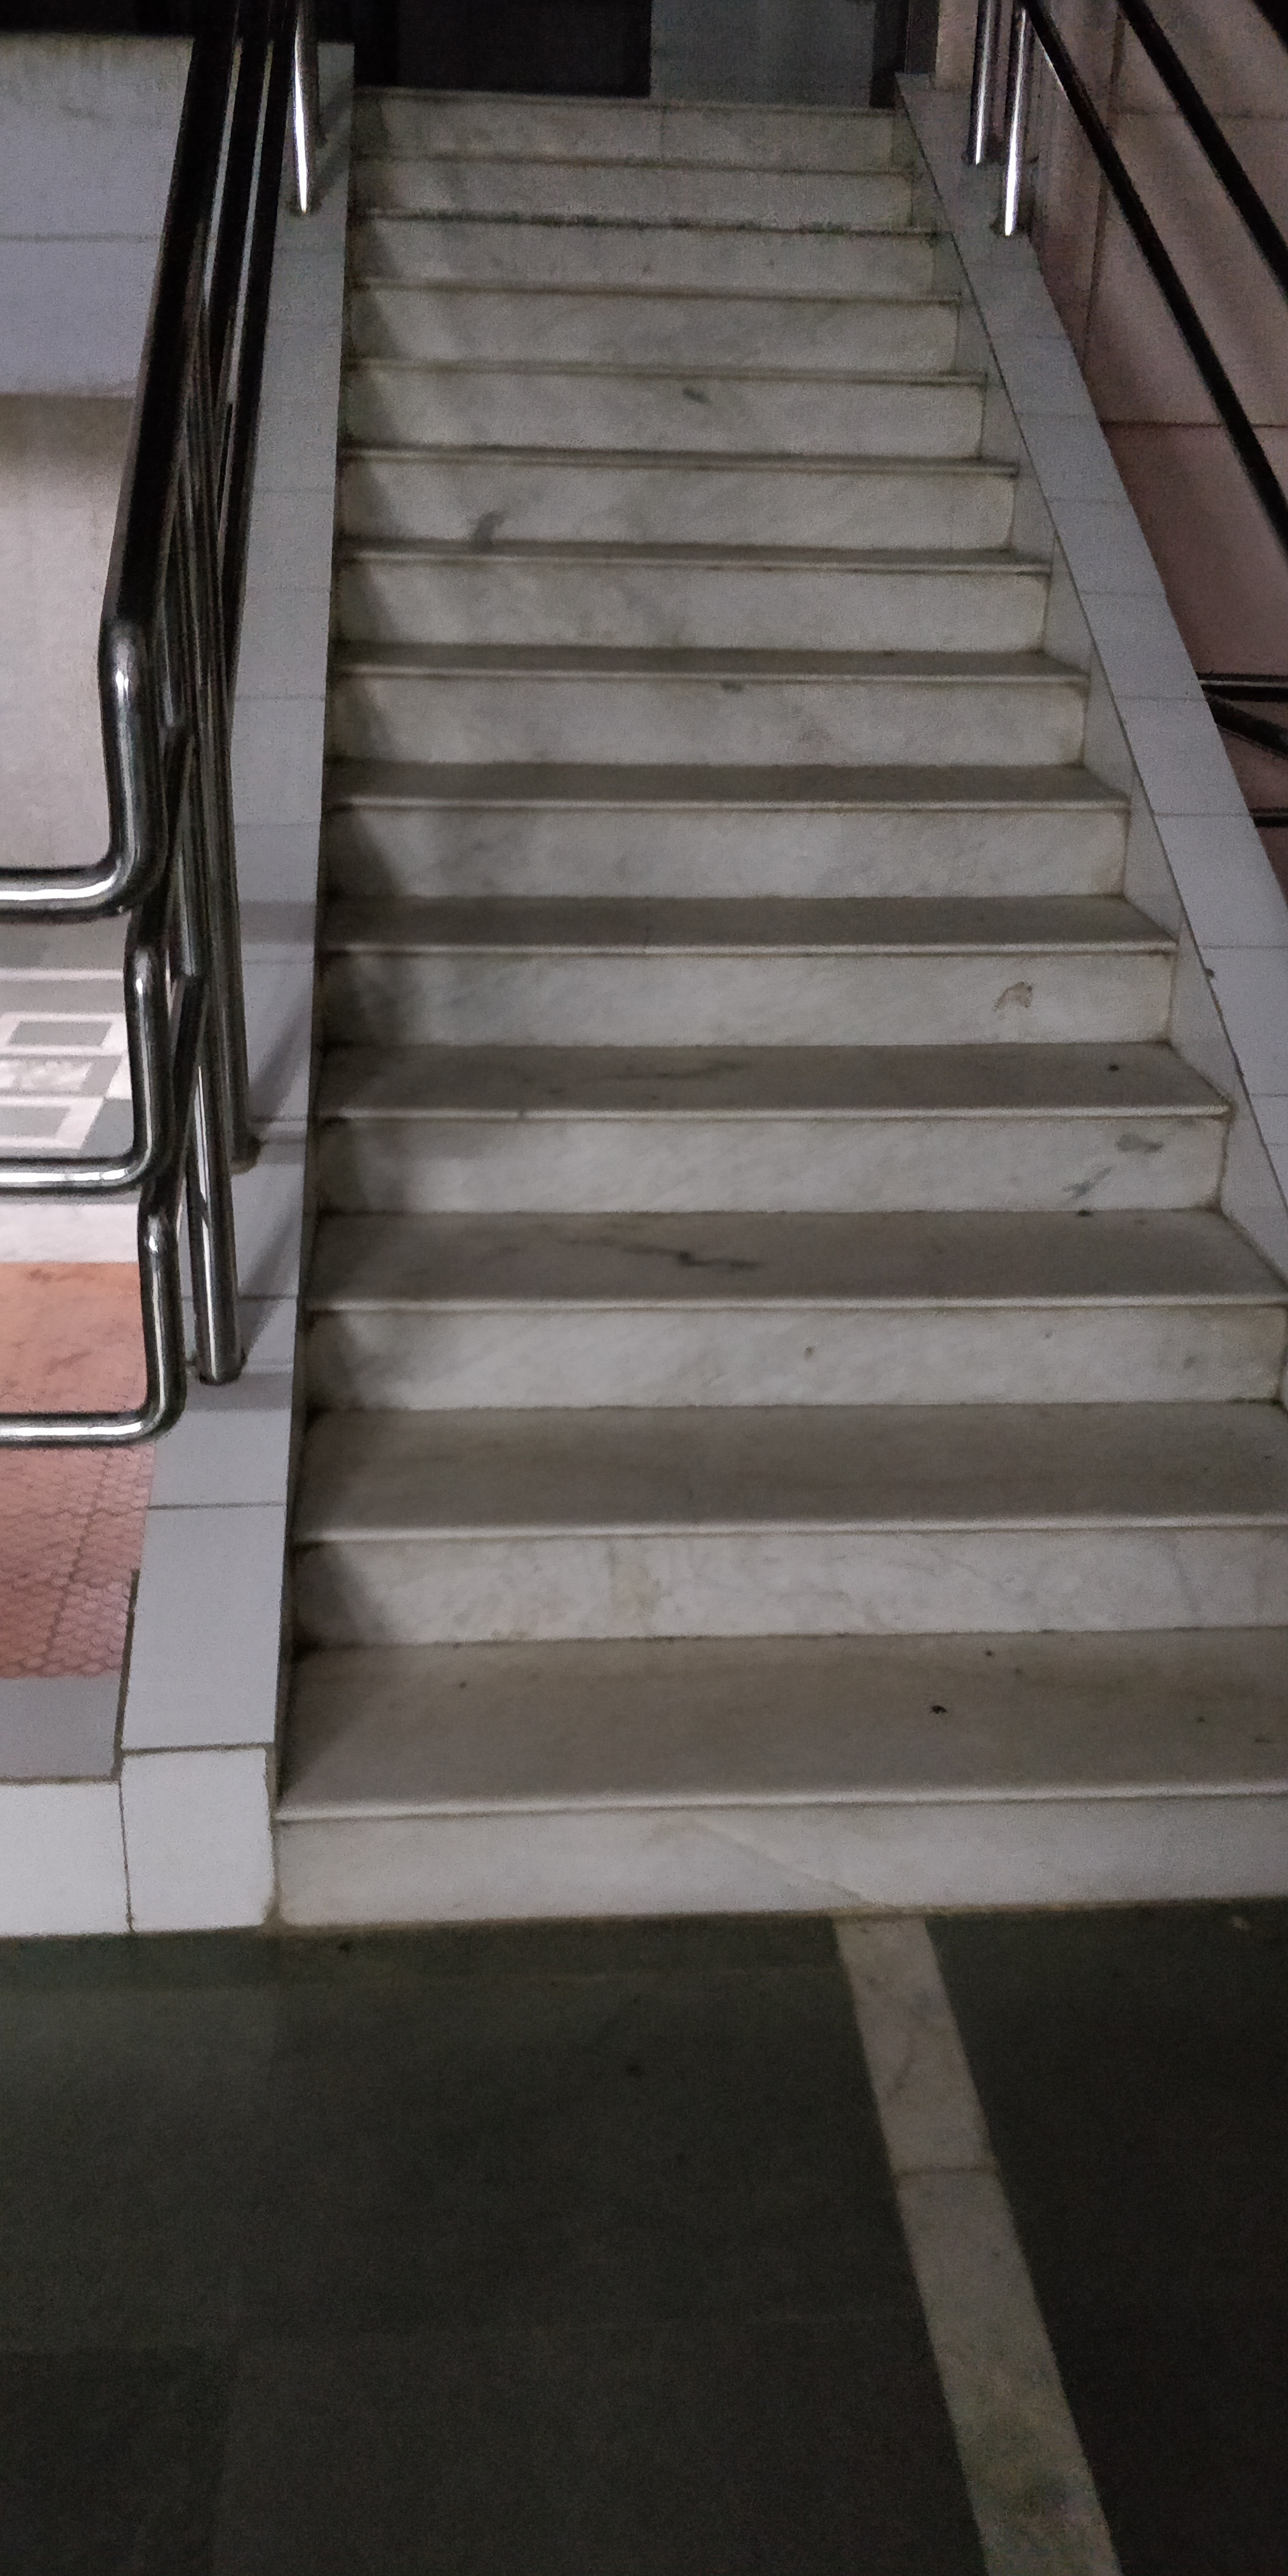stairs_up: (292, 79, 1288, 1937)
